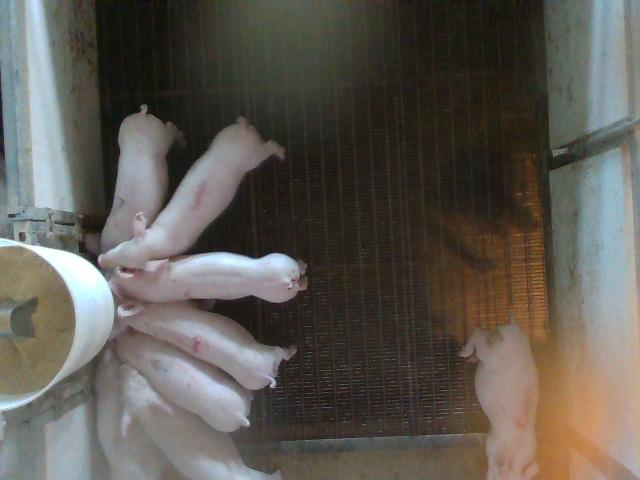pig-1: (100, 118, 284, 269)
pig-3: (460, 321, 539, 478)
pig-4: (126, 301, 296, 389)
